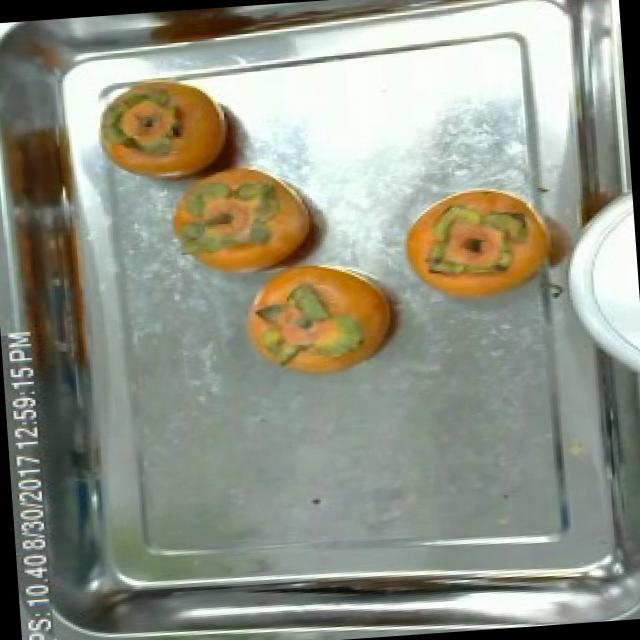Fruit: (382, 164, 588, 321), (229, 250, 418, 388), (150, 145, 336, 279), (77, 72, 259, 200)
